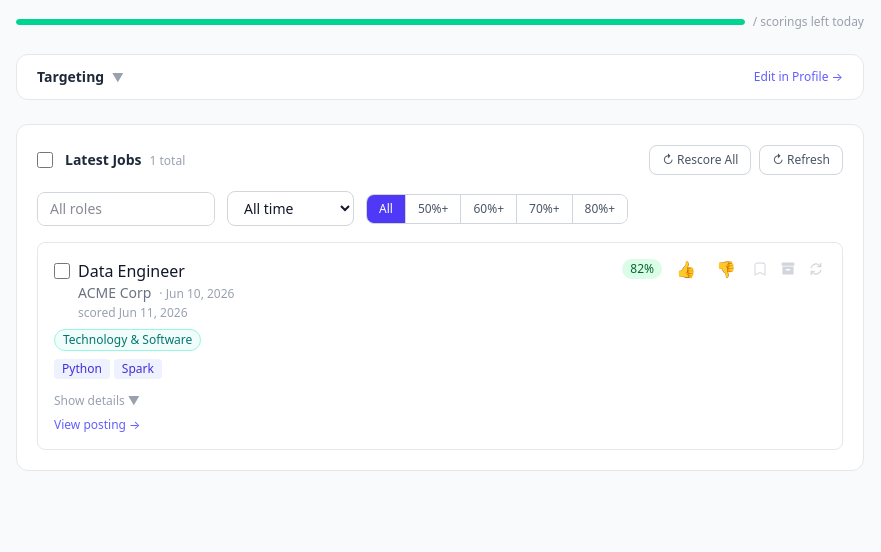
Test: LatestJobs — feedback › Escape key closes the reason picker
Click the button titled "Not relevant". click: (726, 269)
box: [710,259,742,279]
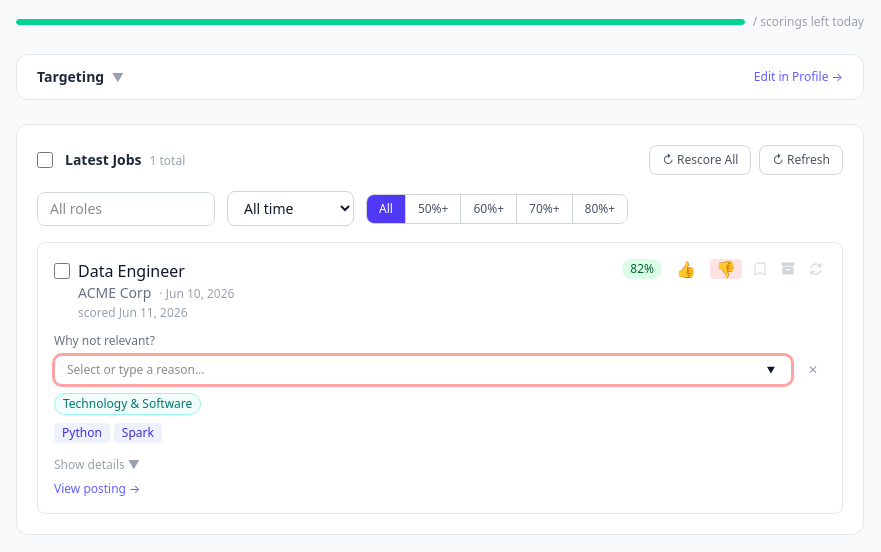
Press Escape in the field with placeholder "Select or type a reason…", box [54,355,792,385]
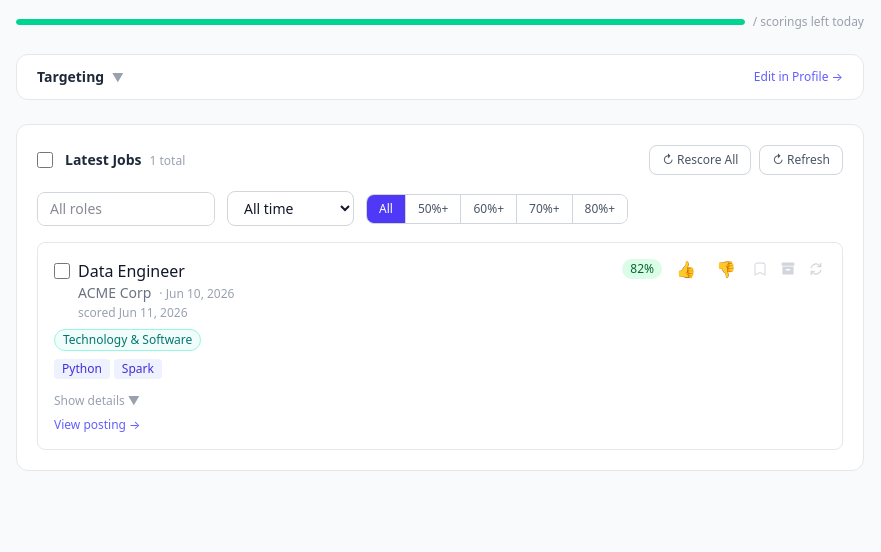
Now the text "Why not relevant?" is gone
